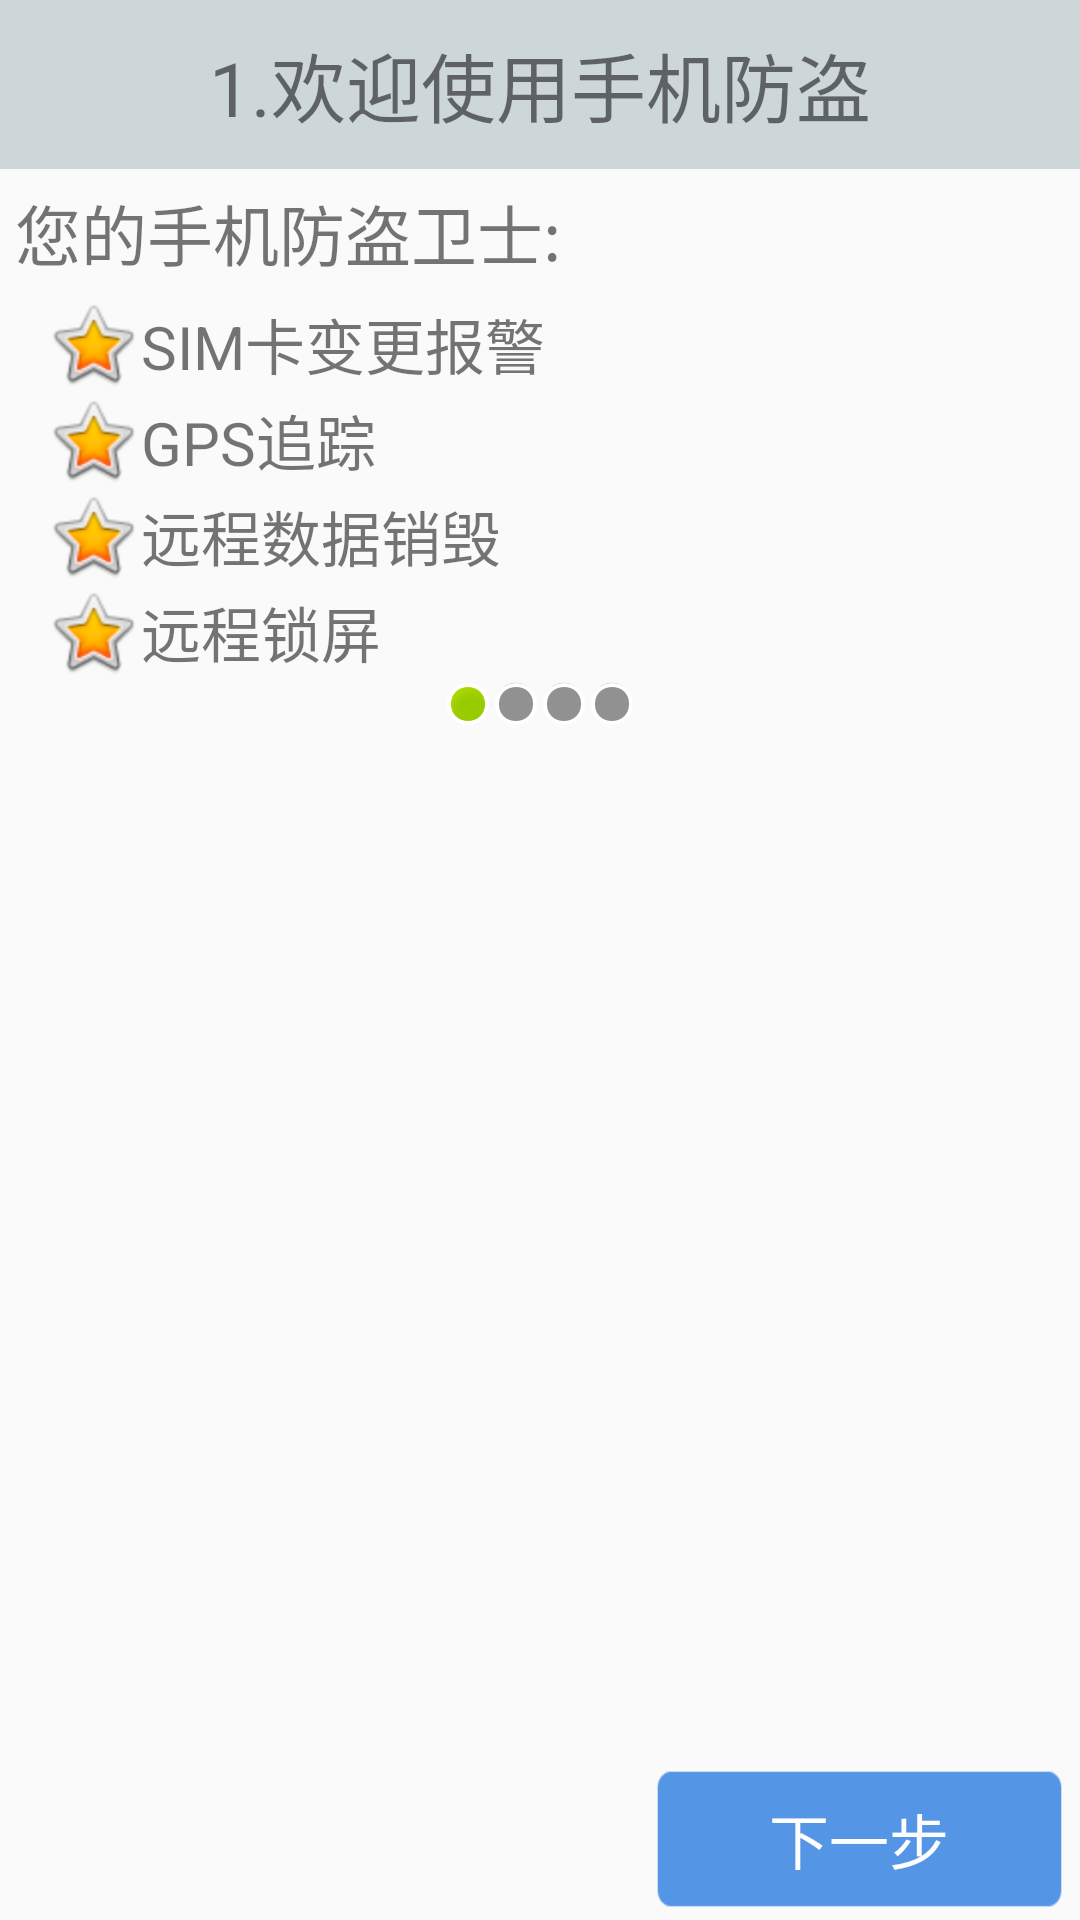

Locate icon controls on the screen. Image size 1080w x 1920h, boxes as box=[x1, y1, x2, y2].
presence invisible: box=[499, 683, 533, 721], box=[547, 683, 581, 721], box=[595, 683, 629, 721]
presence online: box=[451, 687, 485, 721]
